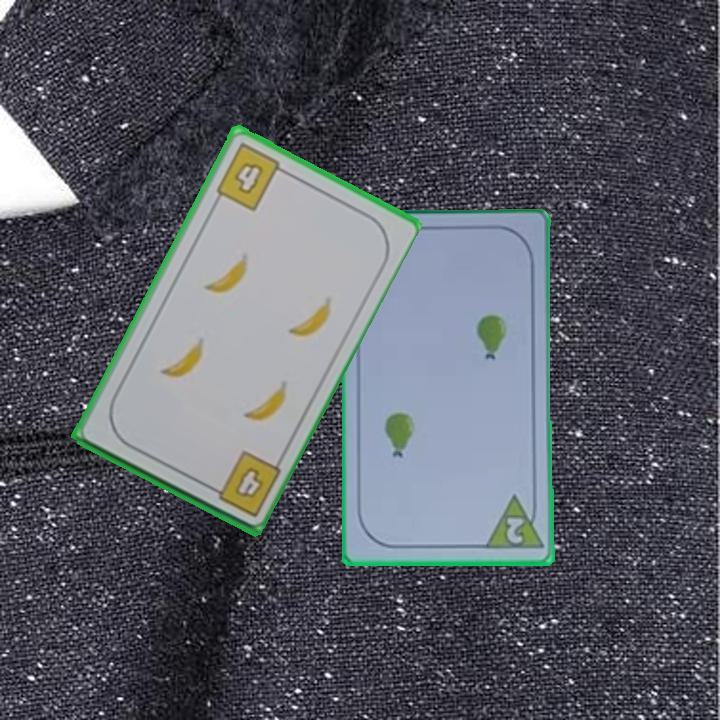2p: (482, 493, 547, 553)
4b: (212, 139, 291, 215), (202, 447, 283, 520)
